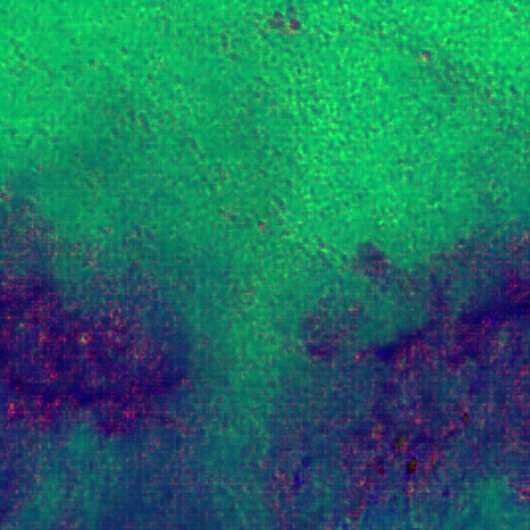rip_current: (136, 185, 364, 502)
